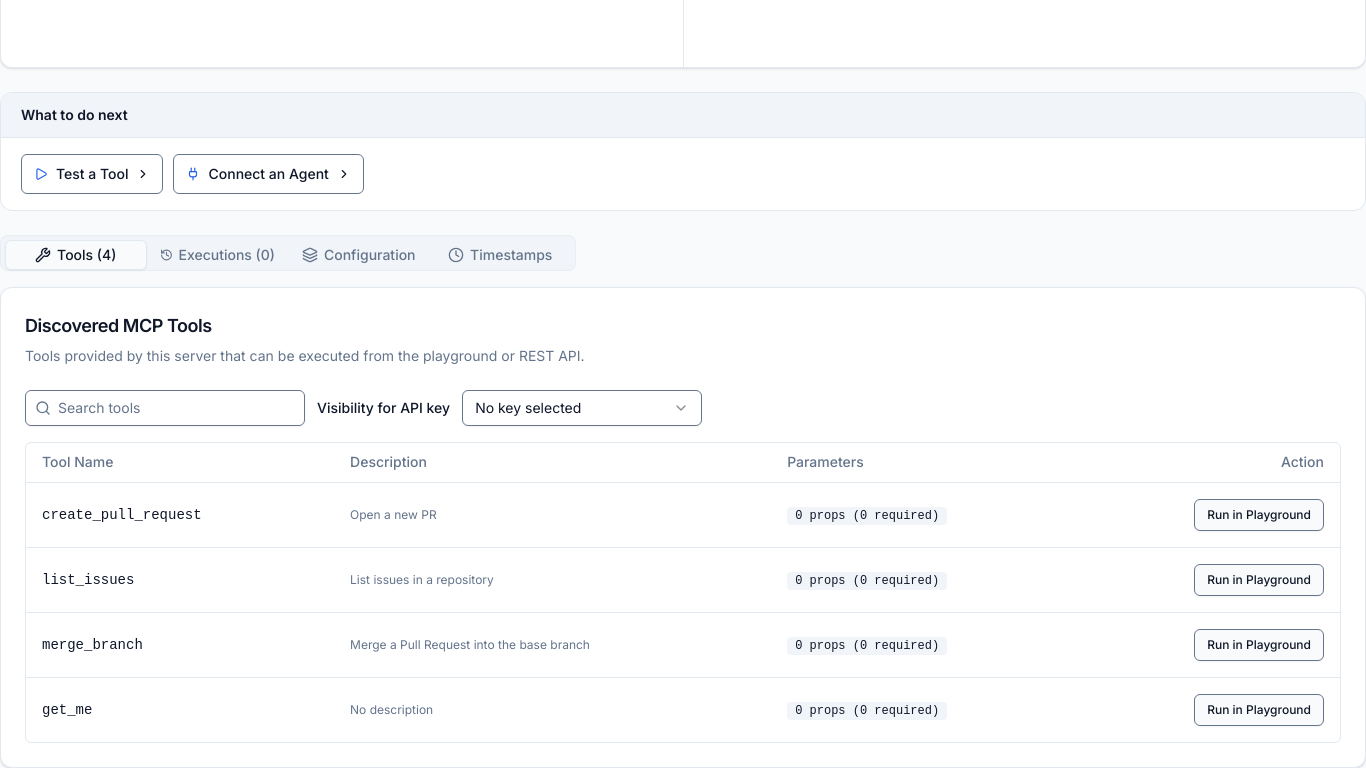
Scenario: Server detail tool search › keeps tools whose name or description contains the text, ignoring case
(page scrolled)
Type "PULL" into the search field labelled "Search tools" at (165, 408), box [25,390,305,426]
(page scrolled)
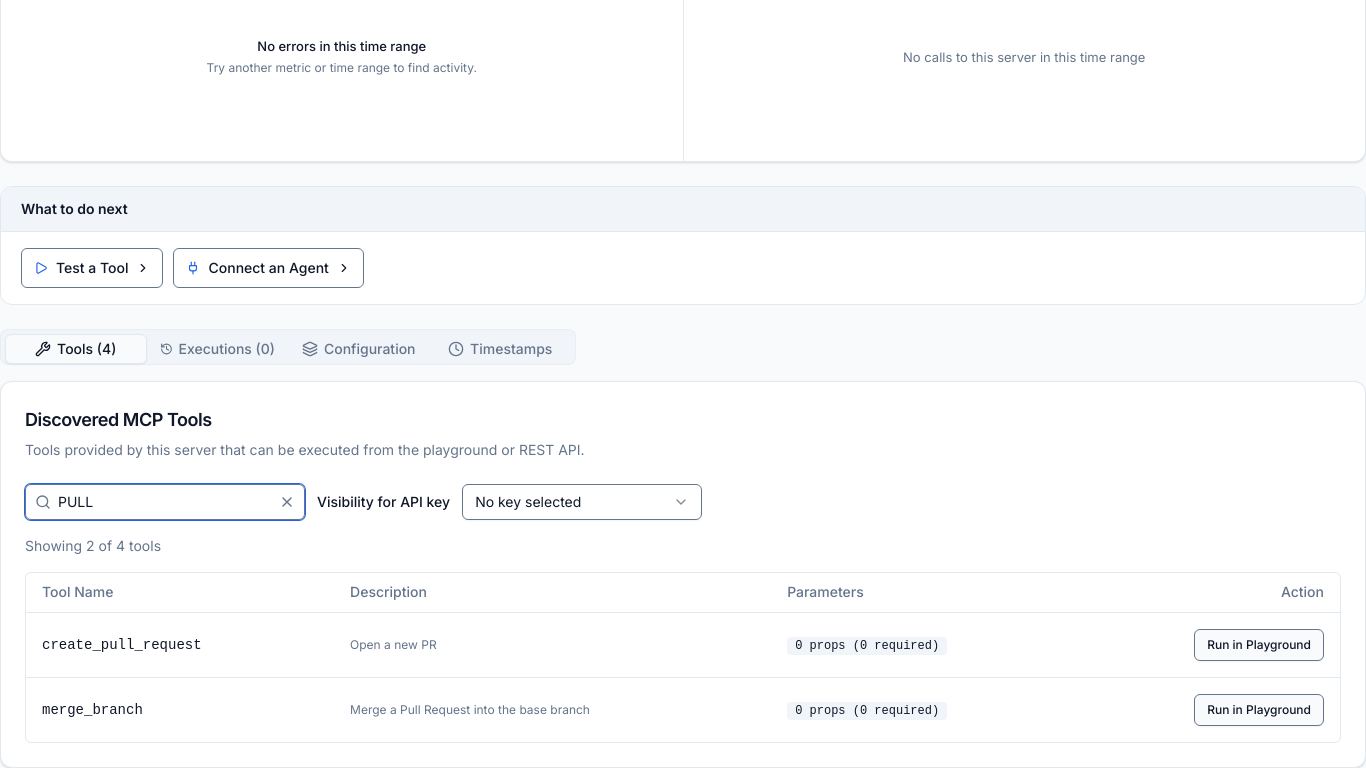
Check: the text "Showing 2 of 4 tools" is shown, box [25,536,161,554]
